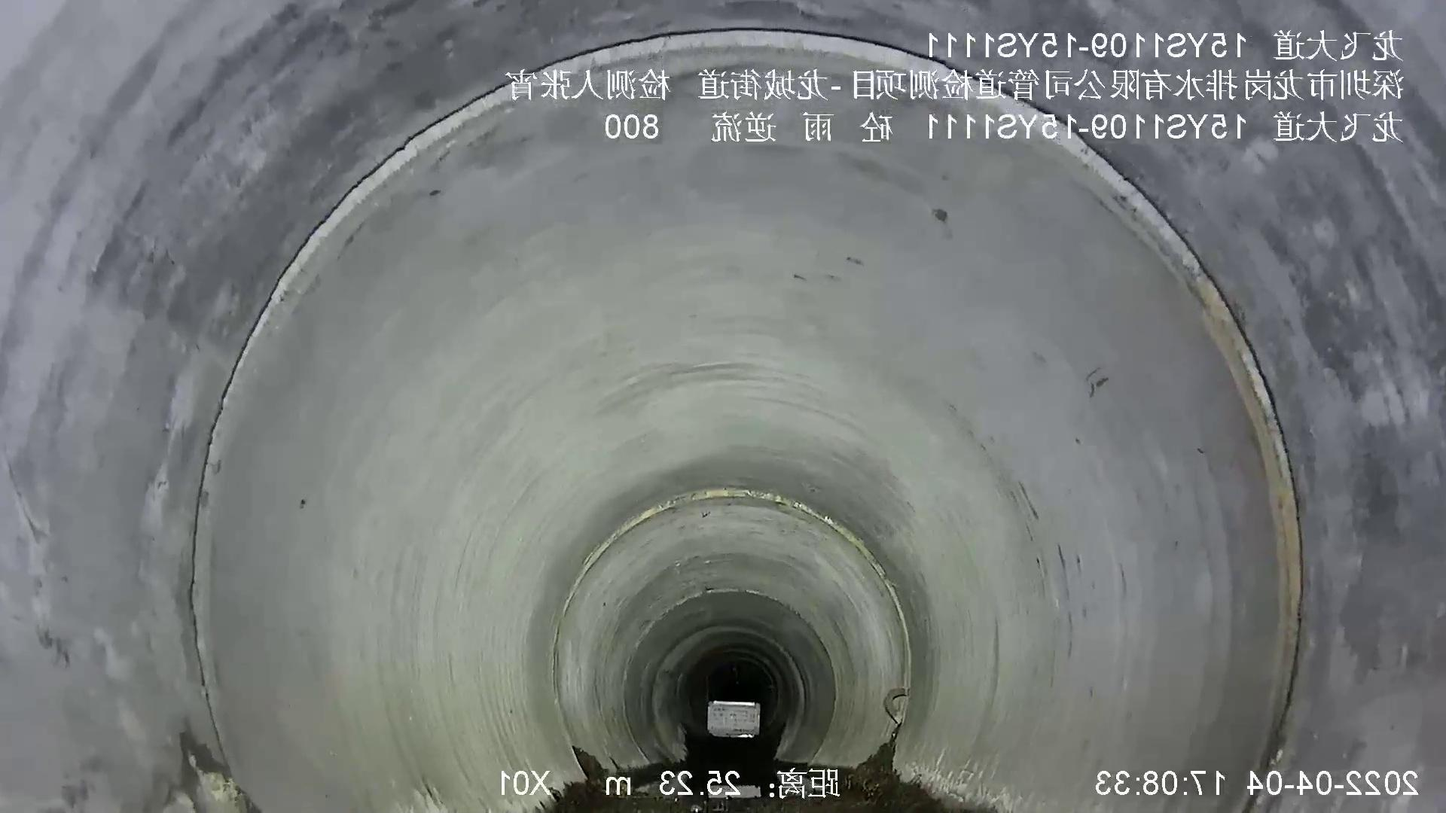CJ: (544, 727, 994, 812)
CKTJ: (182, 23, 1310, 809), (549, 486, 915, 782)
JKCL: (883, 686, 910, 726)
